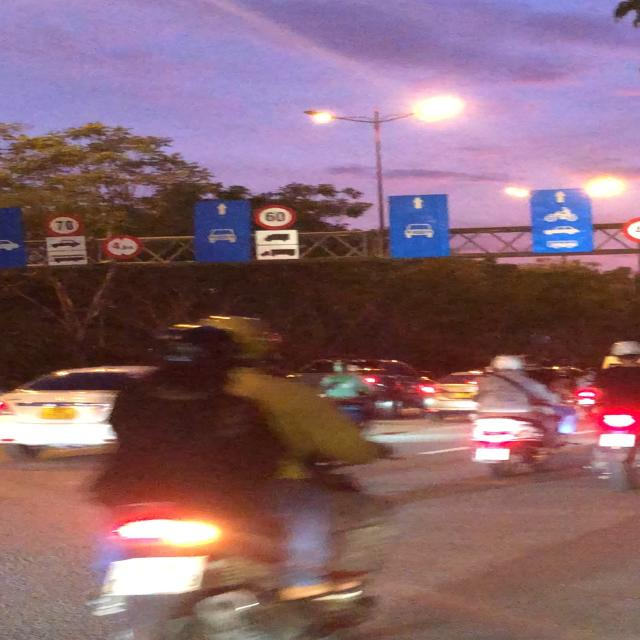Bien bao han che chieu cao: (103, 231, 151, 262)
Bien bao toc do toi da cho phep: (256, 200, 306, 230), (42, 212, 90, 238)
